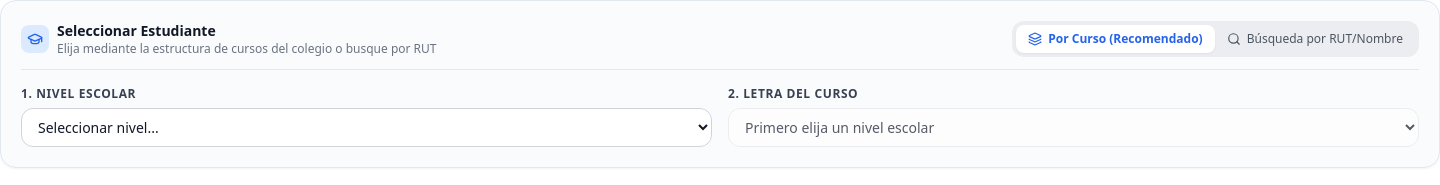
Scenario: SelectorEstudianteCascada (HU 5.5 & 5.5.2) › al seleccionar nivel escolar habilita y puebla el selector de letra
This screenshot has width=1440, height=185.
Select "1° Básico" in the dropdown named "Seleccionar Nivel Escolar": (366, 128) [21,108,712,147]
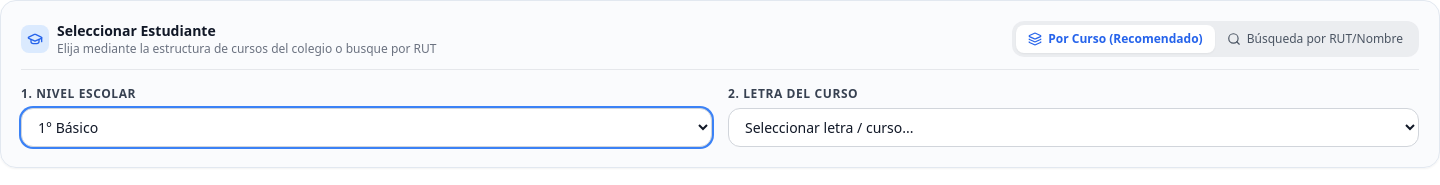
Check: the dropdown named "Seleccionar Letra del Curso" is enabled, box [728,108,1419,147]
